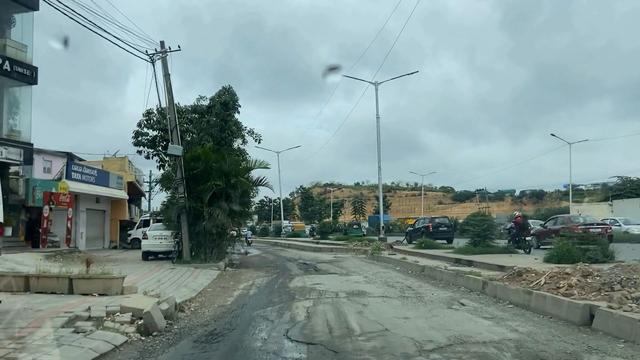RoadDamages: (390, 329, 579, 360), (249, 303, 312, 360), (289, 282, 357, 303), (437, 284, 483, 314), (311, 328, 347, 360), (296, 253, 328, 274)
